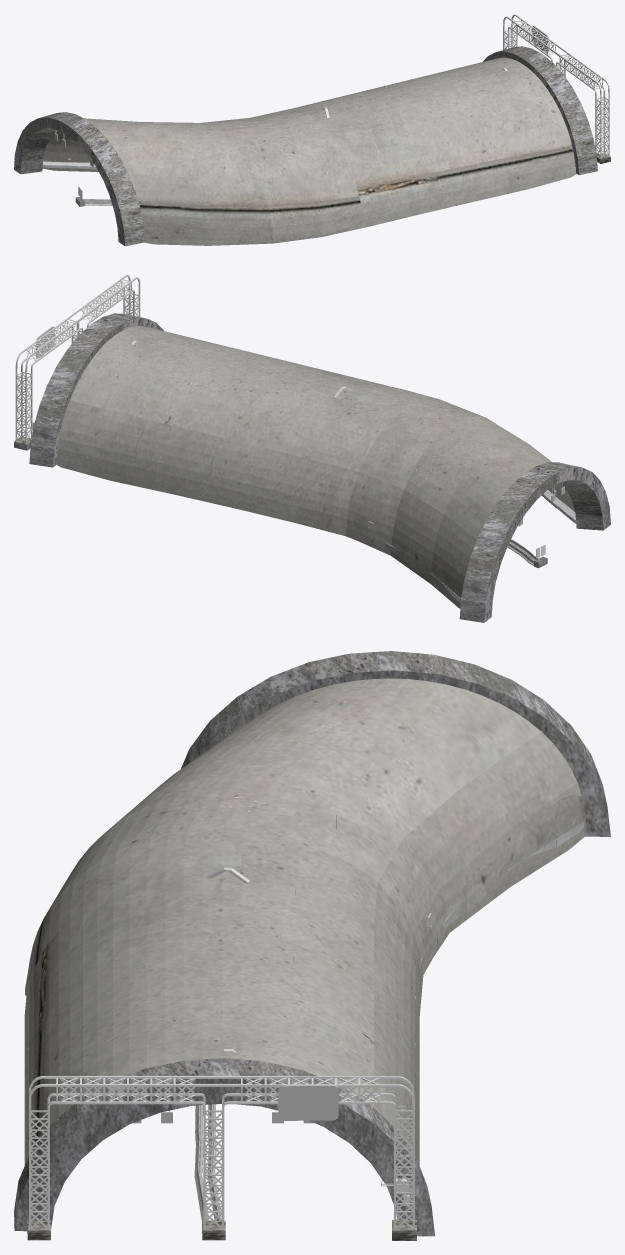
Rendered from tunnel.fbx.
3 renders of one model, top to bottom at view 1: azimuth 30°, elevation 25°; view 2: azimuth 150°, elevation 25°; view 3: azimuth 270°, elevation 25°, orthographic. The views are drawn at different scales.
Parts seen in each view (by area): view 1: tunel, Cylinder, Cylinder.001; view 2: tunel, Cylinder, Cylinder.001; view 3: tunel, Cylinder.001, Cylinder, Cube.857, Cube.784, Cube.710, Cube.783.
Part boxes in pixels (x1,y1,x2,y2): tunel: (42,57,576,245); Cylinder: (14,112,144,246); Cylinder.001: (483,46,597,175); tunel: (56,326,574,608); Cylinder: (459,462,610,622); Cylinder.001: (29,313,163,467); tunel: (24,678,587,1165); Cylinder.001: (14,1058,434,1236); Cylinder: (181,651,610,836); Cube.857: (278,1085,338,1120); Cube.784: (29,1076,228,1108); Cube.710: (228,1076,414,1108); Cube.783: (47,1093,200,1108).
Bounding box in the file's own units: 5453 × 996 × 3153.
